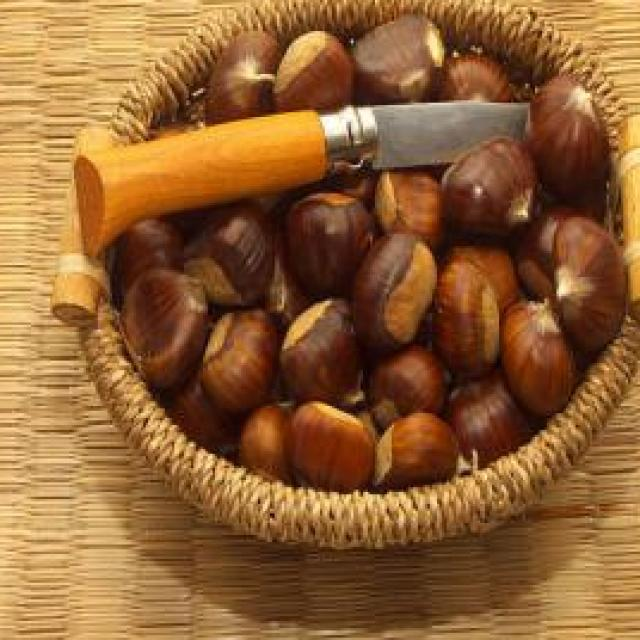knife: (62, 86, 543, 254)
